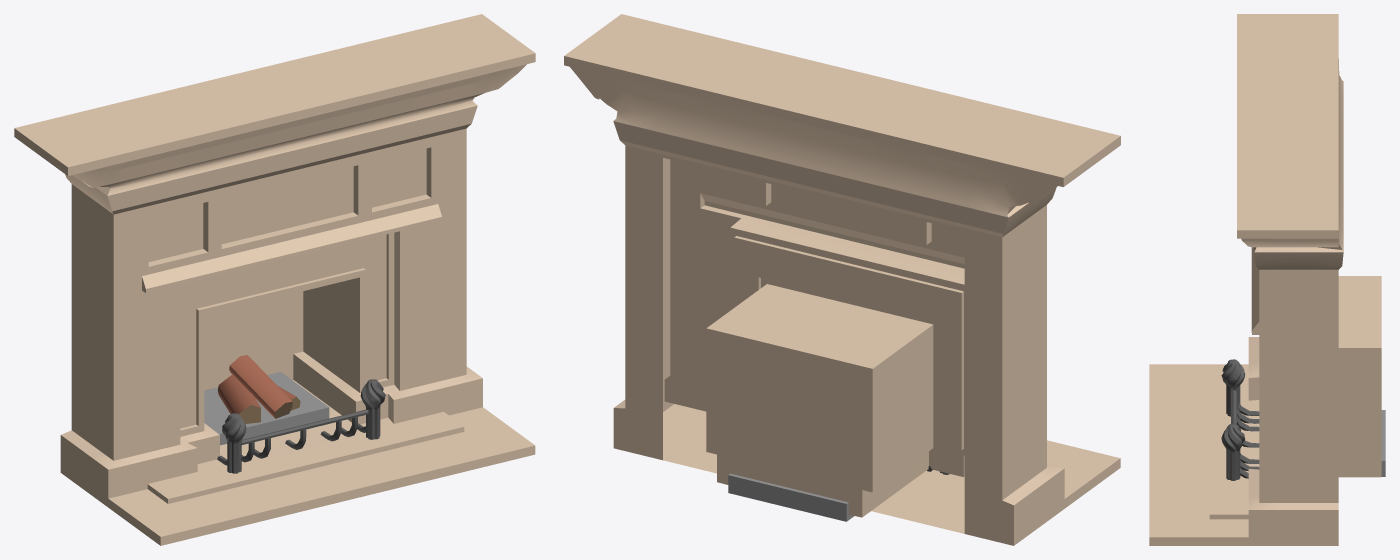
Rendered from FirePlace.fbx.
The picture shows the model from 3 angles, left to right: view 1: azimuth 30°, elevation 25°; view 2: azimuth 150°, elevation 25°; view 3: azimuth 270°, elevation 25°; orthographic projection. The views are drawn at different scales.
Parts seen in each view (by area): view 1: Retopo_firePlaceNew.001, firePlaceNew.001, firePlaceNew, firePlaceNew.004, firePlaceNew.003; view 2: Retopo_firePlaceNew.001, firePlaceNew; view 3: Retopo_firePlaceNew.001, firePlaceNew.001, firePlaceNew.
Boxes of the visible parts, x1,y1,x2,y2 form: Retopo_firePlaceNew.001: (14,14,535,545); firePlaceNew.001: (217,379,385,473); firePlaceNew: (204,372,329,445); firePlaceNew.004: (229,355,292,418); firePlaceNew.003: (217,375,260,423); Retopo_firePlaceNew.001: (564,14,1120,545); firePlaceNew: (728,473,853,521); Retopo_firePlaceNew.001: (1149,14,1381,545); firePlaceNew.001: (1221,359,1259,480); firePlaceNew: (1381,410,1385,476).
Size of the model in its own units: 95.02 by 69.14 by 43.85.
